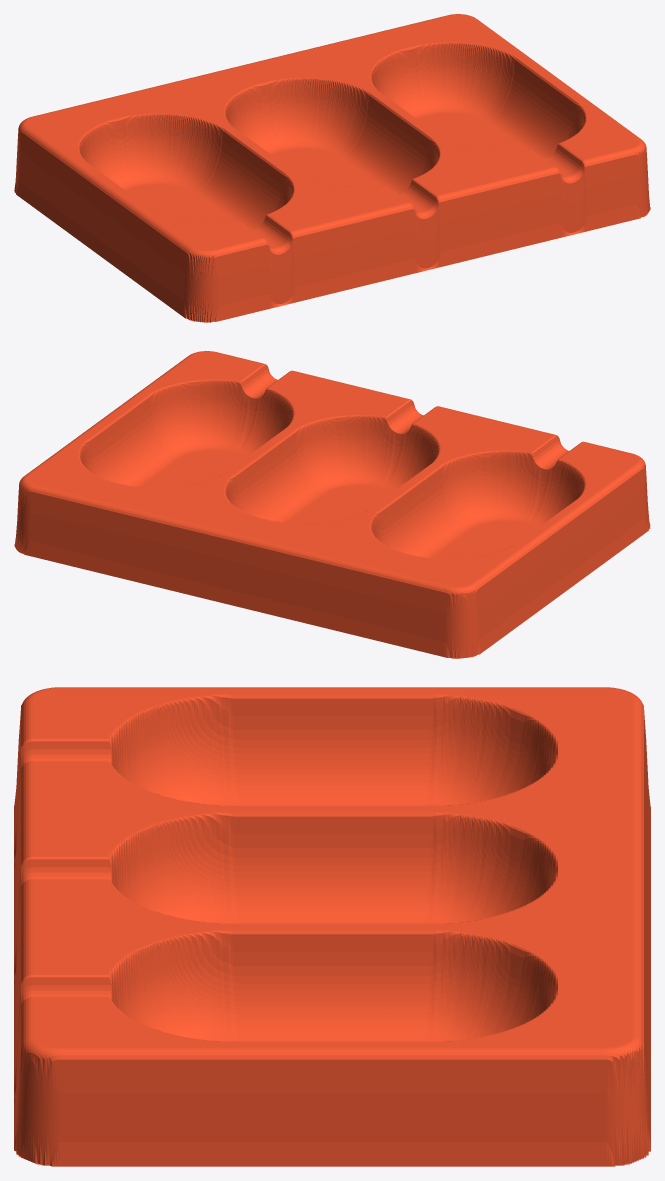
The model's file is mold.glb.
3 renders of one model, top to bottom at view 1: azimuth 30°, elevation 25°; view 2: azimuth 150°, elevation 25°; view 3: azimuth 270°, elevation 25°, orthographic. The views are drawn at different scales.
Parts seen in each view (by area): view 1: geometry_0; view 2: geometry_0; view 3: geometry_0.
Boxes of the visible parts, <box> form: geometry_0: <box>14,14,650,322</box>; geometry_0: <box>14,351,650,658</box>; geometry_0: <box>14,687,650,1166</box>.
Bounding box in the file's own units: 0.1774 × 0.0245 × 0.1273.
